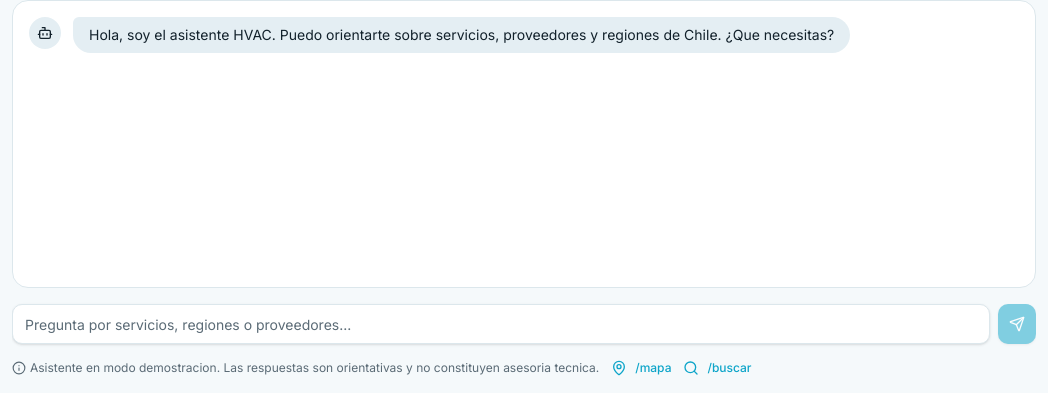
Scenario: ChatStub › usa el fallback local cuando la peticion falla
In the field named "Escribe tu consulta": [501, 324] box [12,304,990,344], type "Necesito ayuda"
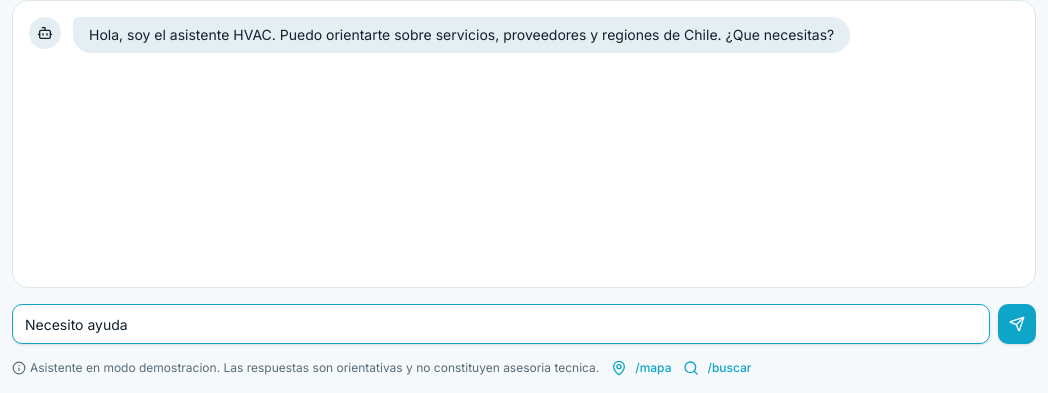
Click the button named "Enviar mensaje": [1017, 324] box [998,304,1036,344]
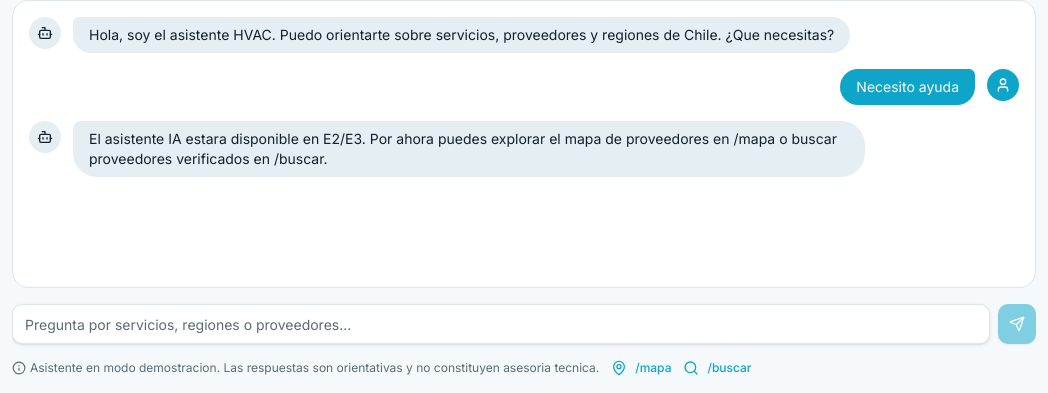
Check: the text "El asistente IA estara disponible en E2/E3" is shown, box [89,130,837,167]
